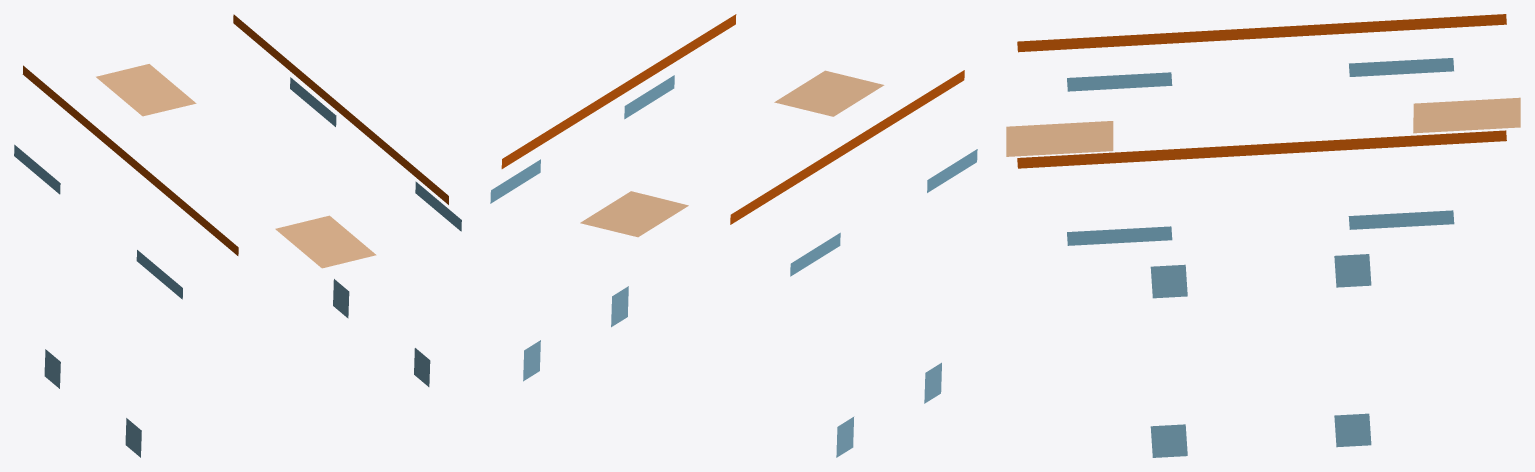
The model's file is HallwayLeanEmissives.fbx.
3 views of the same model, side by side, from view 1: azimuth 30°, elevation 25°; view 2: azimuth 150°, elevation 25°; view 3: azimuth 270°, elevation 25° (orthographic). The views are drawn at different scales.
Visible parts, largest first — view 1: HallwayLean001Emissives; view 2: HallwayLean001Emissives; view 3: HallwayLean001Emissives.
Boxes of the visible parts, x1,y1,x2,y2 form: HallwayLean001Emissives: [14, 14, 461, 457]; HallwayLean001Emissives: [490, 14, 977, 457]; HallwayLean001Emissives: [1006, 14, 1520, 457].
Size of the model in its own units: 539 by 481 by 733.
